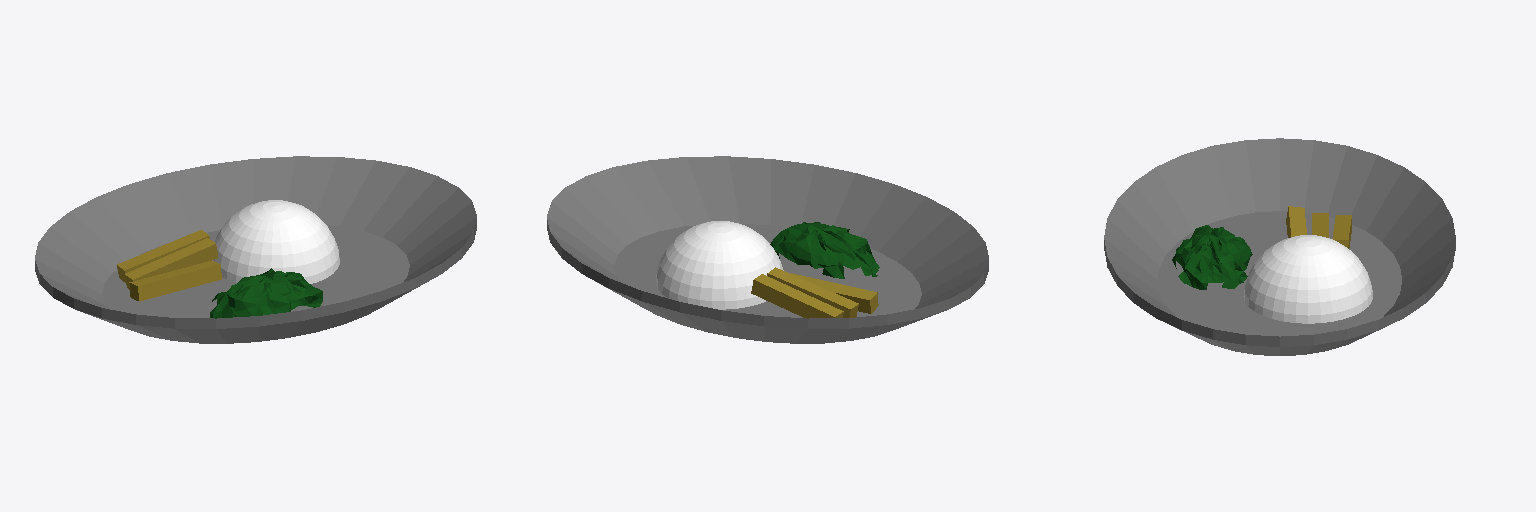
The model's file is rice1_meat1_veg1.obj.
3 renders of one model, left to right at view 1: azimuth 30°, elevation 25°; view 2: azimuth 150°, elevation 25°; view 3: azimuth 270°, elevation 25°, orthographic.
Visible parts, largest first — view 1: Cylinder, Sphere, Sphere.001, Cube.002_Cube.003, Cube.001_Cube.002, Cube_Cube.001; view 2: Cylinder, Sphere, Sphere.001, Cube_Cube.001, Cube.001_Cube.002, Cube.002_Cube.003; view 3: Cylinder, Sphere, Sphere.001, Cube.002_Cube.003.
Part boxes in pixels (bbox=[...]): Cylinder: bbox=[35, 156, 476, 343]; Sphere: bbox=[212, 200, 339, 283]; Sphere.001: bbox=[210, 268, 322, 318]; Cube.002_Cube.003: bbox=[129, 261, 221, 301]; Cube.001_Cube.002: bbox=[125, 238, 218, 289]; Cube_Cube.001: bbox=[117, 230, 209, 282]; Cylinder: bbox=[547, 156, 988, 343]; Sphere: bbox=[656, 221, 783, 309]; Sphere.001: bbox=[770, 222, 879, 278]; Cube_Cube.001: bbox=[751, 274, 843, 318]; Cube.001_Cube.002: bbox=[767, 267, 858, 317]; Cube.002_Cube.003: bbox=[791, 273, 878, 313]; Cylinder: bbox=[1104, 138, 1455, 355]; Sphere: bbox=[1243, 235, 1372, 323]; Sphere.001: bbox=[1172, 225, 1252, 289]; Cube.002_Cube.003: bbox=[1286, 206, 1306, 237].
Size of the model in its own units: 5.75 by 0.85 by 4.31.